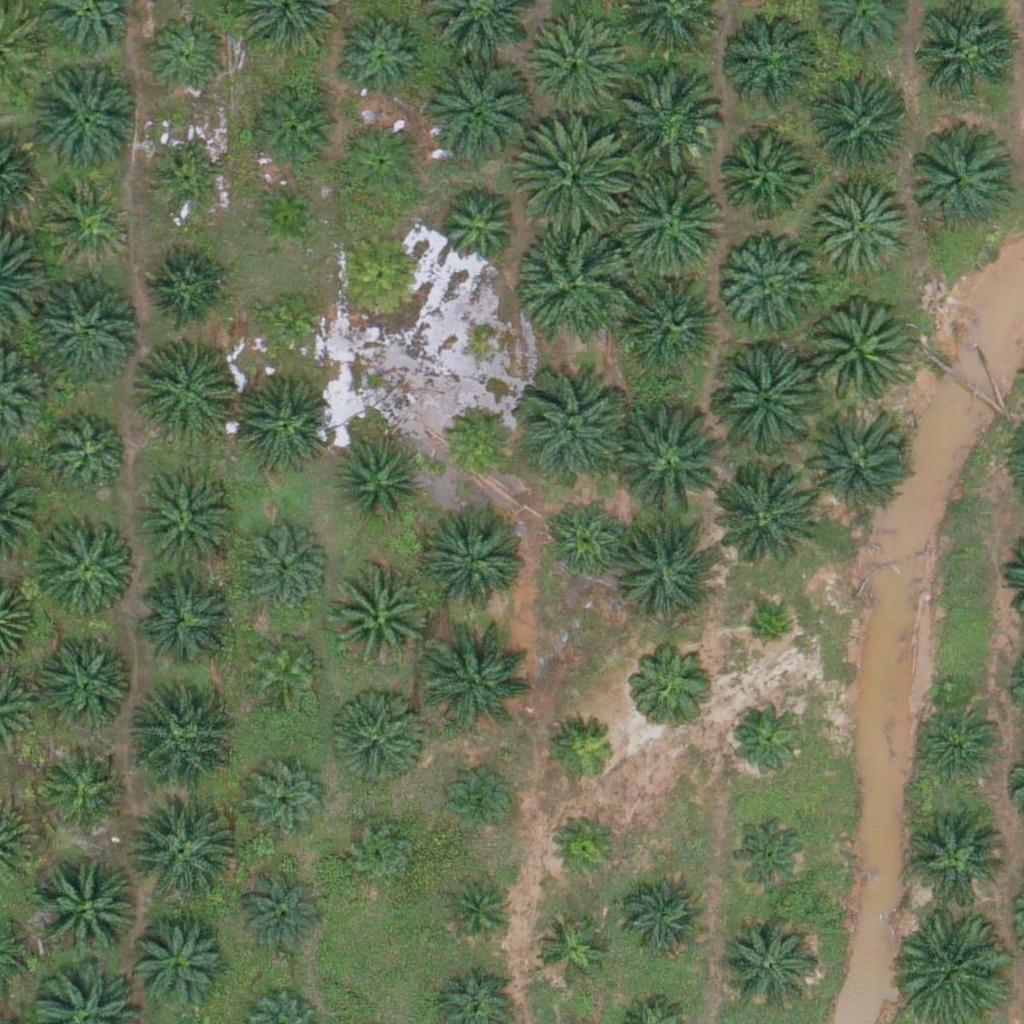Kelapa_Sawit: (706, 344, 819, 457), (703, 461, 816, 574), (521, 225, 634, 338), (518, 373, 631, 486), (611, 61, 724, 174), (35, 853, 147, 967), (610, 403, 722, 517), (614, 162, 726, 276), (516, 114, 628, 228), (30, 271, 142, 384), (121, 682, 233, 795), (122, 796, 234, 909), (423, 622, 535, 735), (802, 296, 914, 409), (799, 404, 911, 517), (615, 513, 727, 626), (29, 61, 141, 174), (420, 53, 532, 166), (718, 916, 818, 1017), (129, 918, 229, 1019), (37, 637, 137, 738), (36, 513, 136, 614), (138, 477, 238, 578), (136, 568, 236, 669), (229, 375, 329, 476), (328, 568, 428, 669), (425, 507, 525, 608), (905, 807, 1005, 908), (906, 133, 1006, 234), (813, 182, 913, 283), (711, 127, 811, 228), (718, 235, 818, 336), (527, 15, 627, 116), (135, 339, 235, 439), (329, 687, 429, 787), (811, 84, 911, 184), (625, 273, 725, 373), (915, 1, 1015, 101), (723, 5, 823, 105), (336, 229, 424, 318), (727, 810, 815, 899), (542, 499, 630, 587), (336, 116, 424, 204), (43, 738, 131, 826), (236, 871, 324, 959), (243, 753, 331, 841), (627, 636, 715, 724), (141, 14, 229, 102), (621, 875, 709, 963), (338, 12, 425, 101), (44, 179, 131, 267), (48, 413, 135, 501), (143, 243, 230, 331), (241, 520, 328, 608), (335, 440, 422, 528), (725, 692, 812, 780), (912, 695, 999, 783), (432, 184, 519, 272), (247, 86, 334, 174), (439, 401, 514, 477), (442, 763, 517, 839), (440, 875, 515, 951), (247, 178, 322, 254), (251, 286, 326, 362), (153, 149, 228, 224), (547, 713, 622, 788), (248, 634, 323, 709), (532, 913, 607, 988), (346, 818, 421, 893), (547, 809, 622, 884), (744, 607, 794, 657)
